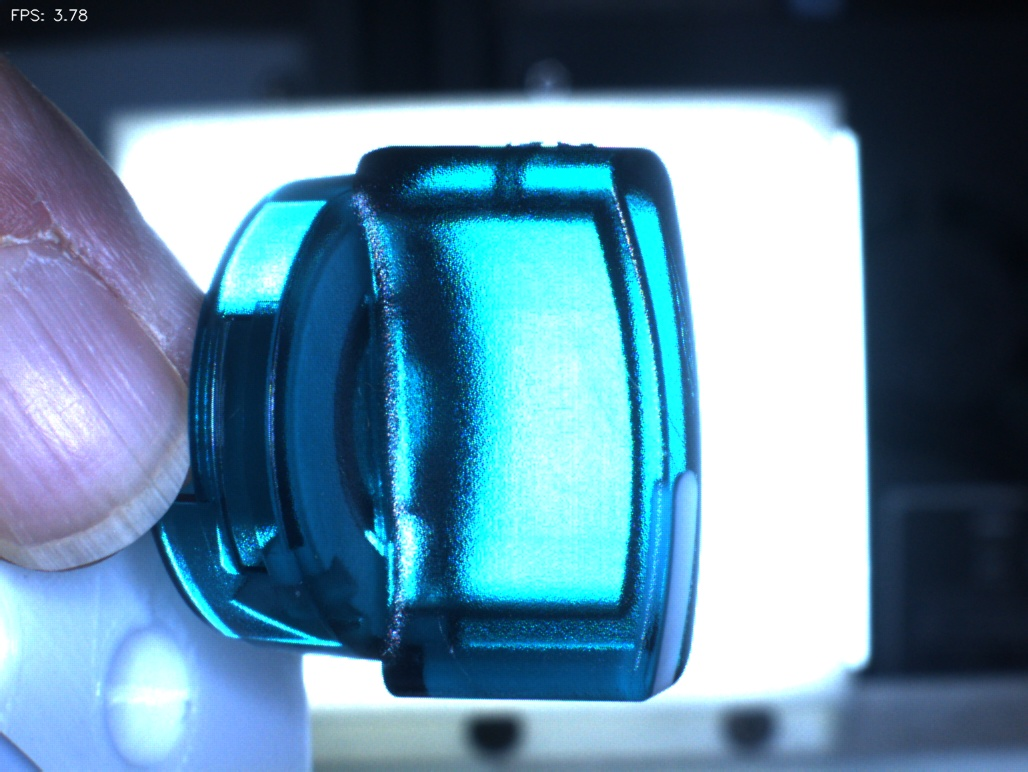Bulle: (453, 122, 570, 244)
